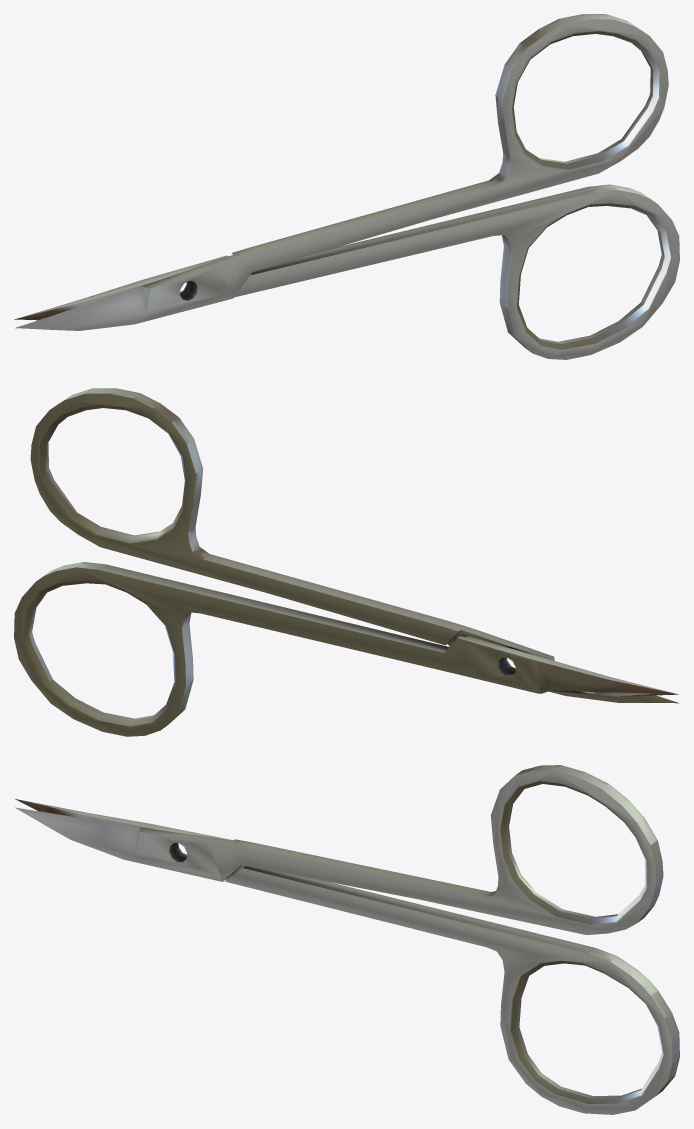
Rendered from scissorA.glb.
3 renders of one model, top to bottom at view 1: azimuth 30°, elevation 25°; view 2: azimuth 150°, elevation 25°; view 3: azimuth 330°, elevation 25°, orthographic.
Visible parts, largest first — view 1: Object053, pCube45; view 2: pCube45, Object053; view 3: Object053, pCube45.
Part boxes in pixels (x1,y1,x2,y2): Object053: (15, 14, 668, 330); pCube45: (14, 184, 679, 359); pCube45: (14, 562, 678, 736); Object053: (30, 388, 679, 703); Object053: (15, 765, 663, 934); pCube45: (14, 798, 679, 1114).
Bounding box in the file's own units: 0.1507 × 0.0737 × 0.00396.
Materials: 1 (1 with a texture image).
